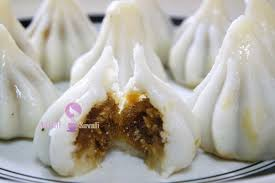modak: (44, 41, 187, 174), (180, 14, 275, 158), (1, 23, 51, 138)
